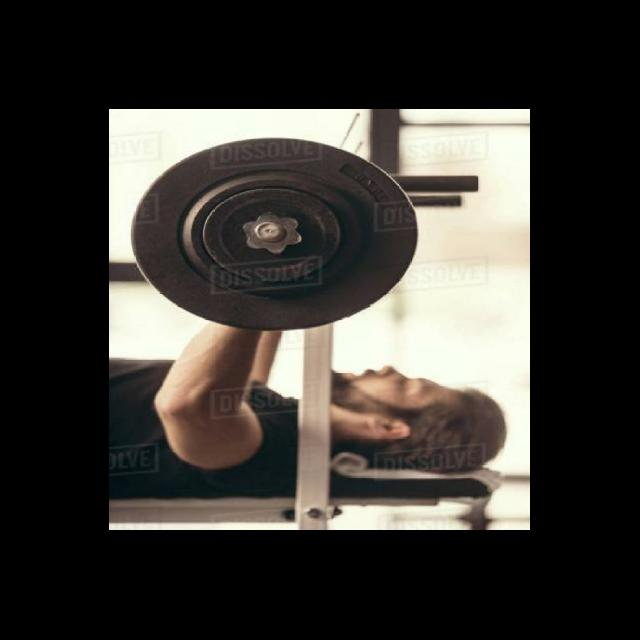barbell: (126, 139, 424, 339)
